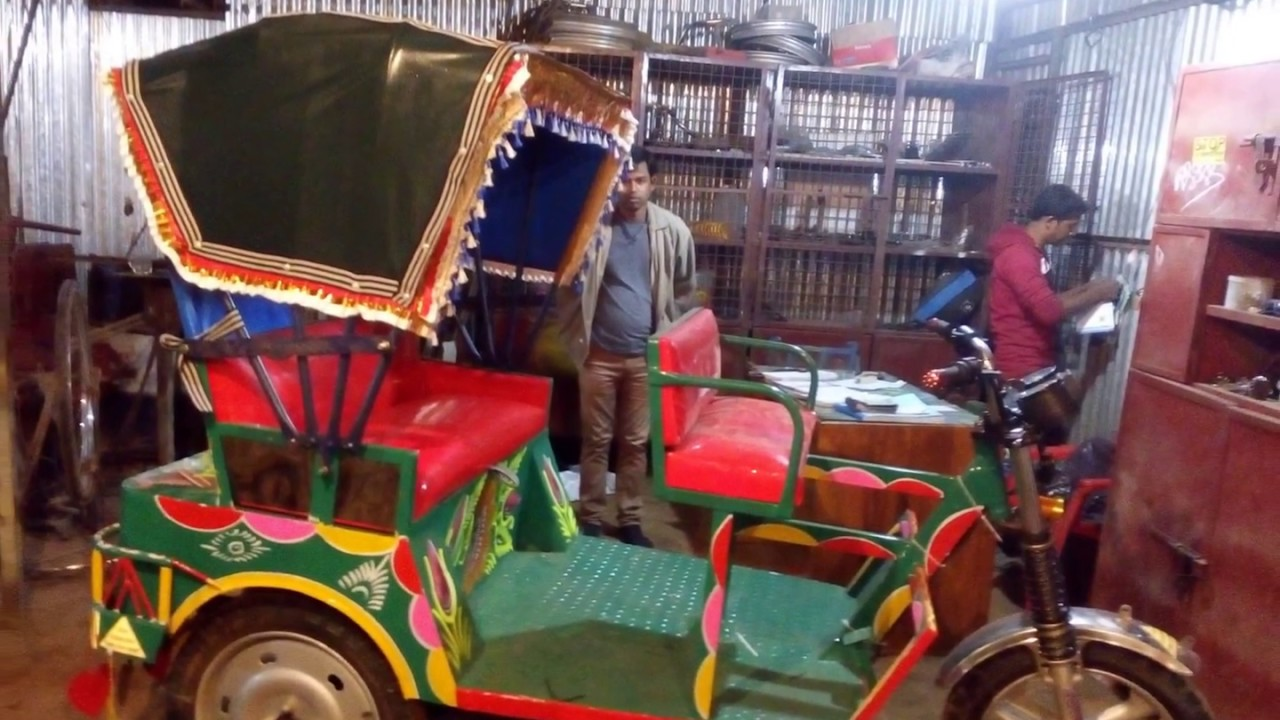Rickshaw: (85, 33, 1209, 719)
